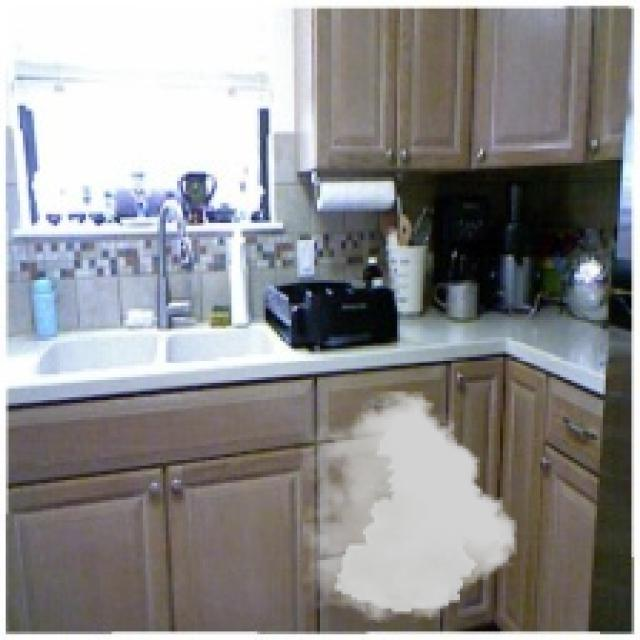Smoke: (302, 391, 518, 623)
